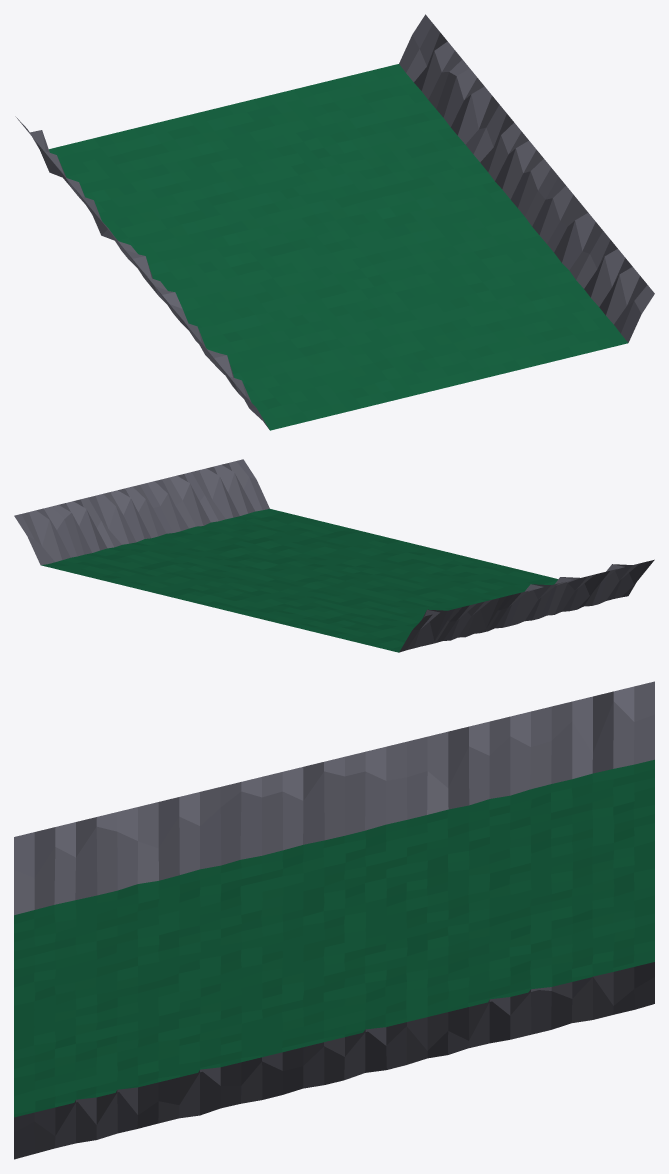
The model's file is HillPrefab1.fbx.
The picture shows the model from 3 angles, top to bottom: view 1: azimuth 30°, elevation 25°; view 2: azimuth 150°, elevation 25°; view 3: azimuth 270°, elevation 25°; orthographic projection. The views are drawn at different scales.
Visible parts, largest first — view 1: Plane; view 2: Plane; view 3: Plane.
Part boxes in pixels (x1,y1,x2,y2): Plane: [15, 14, 654, 430]; Plane: [14, 459, 654, 652]; Plane: [14, 681, 654, 1159].
Bounding box in the file's own units: 5000 × 1794 × 4830.
